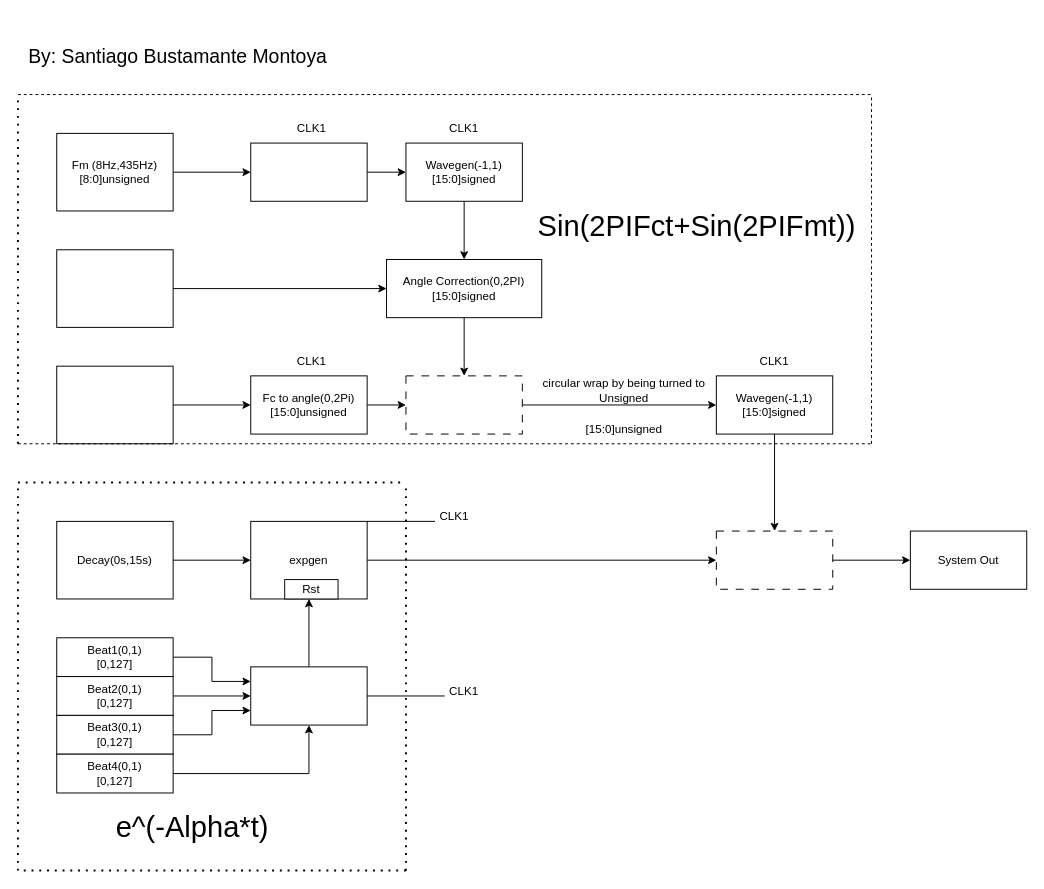
Image size: 1044x889. Some labels were removed from this diagram. Each missing label, with the centre of its shape:
"Adder(-PI,PI) [15:0]signed" goes at (x=463, y=404).
"BeatSampling(0,1) Boolean" goes at (x=308, y=695).
"Beta (1,100) [6:0]unsigned" goes at (x=114, y=288).
"Fc (435Hz,7000Hz) [12:0]unsigned" goes at (x=114, y=404).
"Fm to angle(0,2PI) [15:0]unsigned" goes at (x=308, y=171).
"Multiplier(0,Beta) [15:0]signed" goes at (x=774, y=559).
